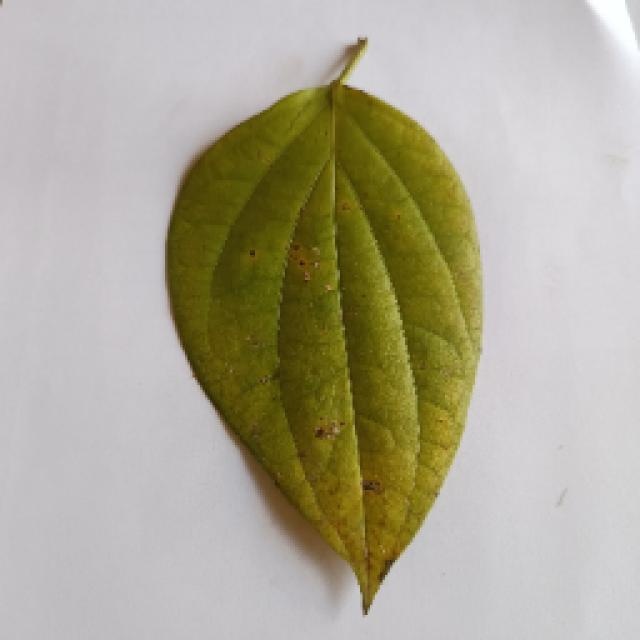slow-decline: (162, 45, 480, 613)
